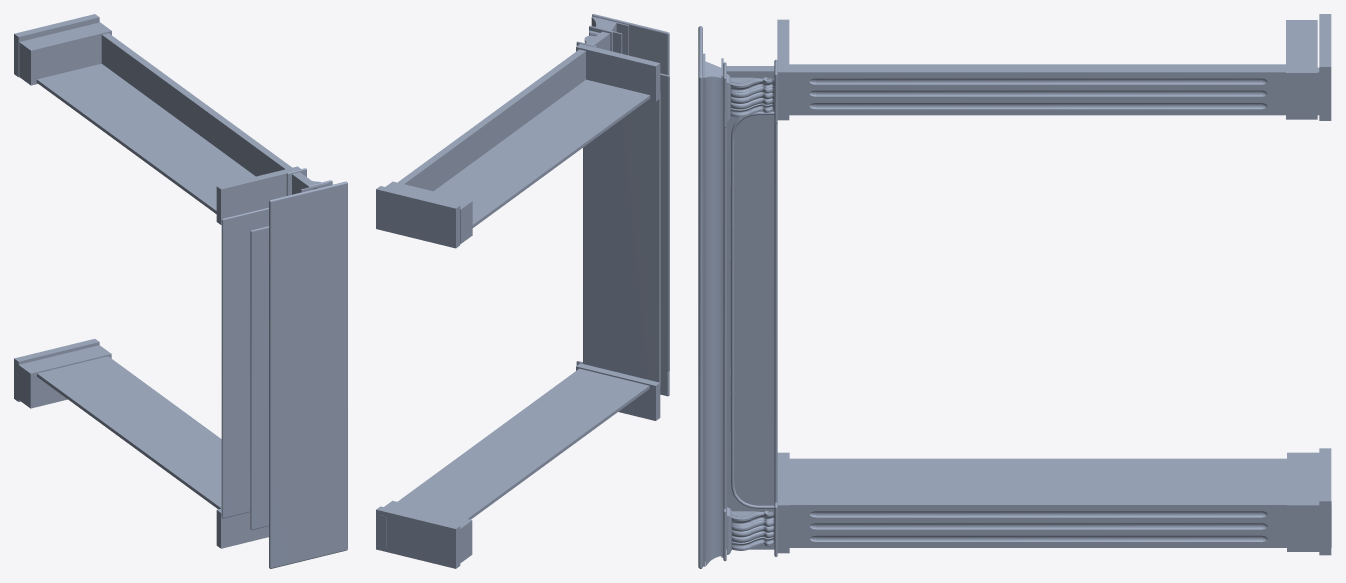
3 views of the same model, side by side, from view 1: azimuth 30°, elevation 25°; view 2: azimuth 150°, elevation 25°; view 3: azimuth 270°, elevation 25° (orthographic). The views are drawn at different scales.
Visible parts, largest first — view 1: ChamferBo5, object 8, object 1, ChamferBox, Box01, ChamferBo2, Box06, Box05, Box47, Box04, Box45, Box01_inst_2 (+1 smaller); view 2: ChamferBox, object 1, object 8, Box01, Box45, Box41, ChamferBo2, Box47, ChamferBo5, Box01_inst_2, Box04, Box05 (+1 smaller); view 3: Box01, Box01_inst_2, object 1, Box15, Line06, Box05, Box06, ChamferBo5, object 8, B823_inst_2, B823, Box26 (+9 smaller).
Part boxes in pixels (x1=…): ChamferBo5: x1=269, y1=181, x2=347, y2=568; object 8: x1=36, y1=63, x2=255, y2=213; object 1: x1=37, y1=358, x2=221, y2=509; ChamferBox: x1=221, y1=207, x2=268, y2=518; Box01: x1=101, y1=33, x2=291, y2=176; ChamferBo2: x1=250, y1=226, x2=268, y2=530; Box06: x1=19, y1=22, x2=111, y2=85; Box05: x1=14, y1=345, x2=111, y2=408; Box47: x1=216, y1=166, x2=300, y2=224; Box04: x1=216, y1=508, x2=268, y2=548; Box45: x1=14, y1=14, x2=99, y2=77; Box01_inst_2: x1=101, y1=356, x2=221, y2=445; ChamferBox: x1=583, y1=92, x2=660, y2=386; object 1: x1=404, y1=370, x2=649, y2=519; object 8: x1=434, y1=79, x2=650, y2=227; Box01: x1=398, y1=49, x2=585, y2=191; Box45: x1=376, y1=186, x2=460, y2=248; Box41: x1=376, y1=506, x2=460, y2=568; ChamferBo2: x1=660, y1=73, x2=669, y2=371; Box47: x1=576, y1=44, x2=660, y2=101; ChamferBo5: x1=592, y1=14, x2=669, y2=396; Box01_inst_2: x1=379, y1=368, x2=585, y2=548; Box04: x1=576, y1=363, x2=660, y2=420; Box05: x1=384, y1=500, x2=472, y2=565; Box01: x1=789, y1=67, x2=1319, y2=115; Box01_inst_2: x1=789, y1=500, x2=1331, y2=547; object 1: x1=789, y1=458, x2=1286, y2=500; Box15: x1=726, y1=66, x2=774, y2=549; Line06: x1=705, y1=61, x2=721, y2=565; Box05: x1=1287, y1=452, x2=1329, y2=551; Box06: x1=1286, y1=20, x2=1317, y2=119; ChamferBo5: x1=698, y1=26, x2=702, y2=568; object 8: x1=789, y1=64, x2=1285, y2=67; B823_inst_2: x1=726, y1=74, x2=774, y2=121; B823: x1=727, y1=507, x2=774, y2=554; Box26: x1=703, y1=53, x2=705, y2=566.
Bounding box in the file's own units: 16476 × 59331 × 69036.
